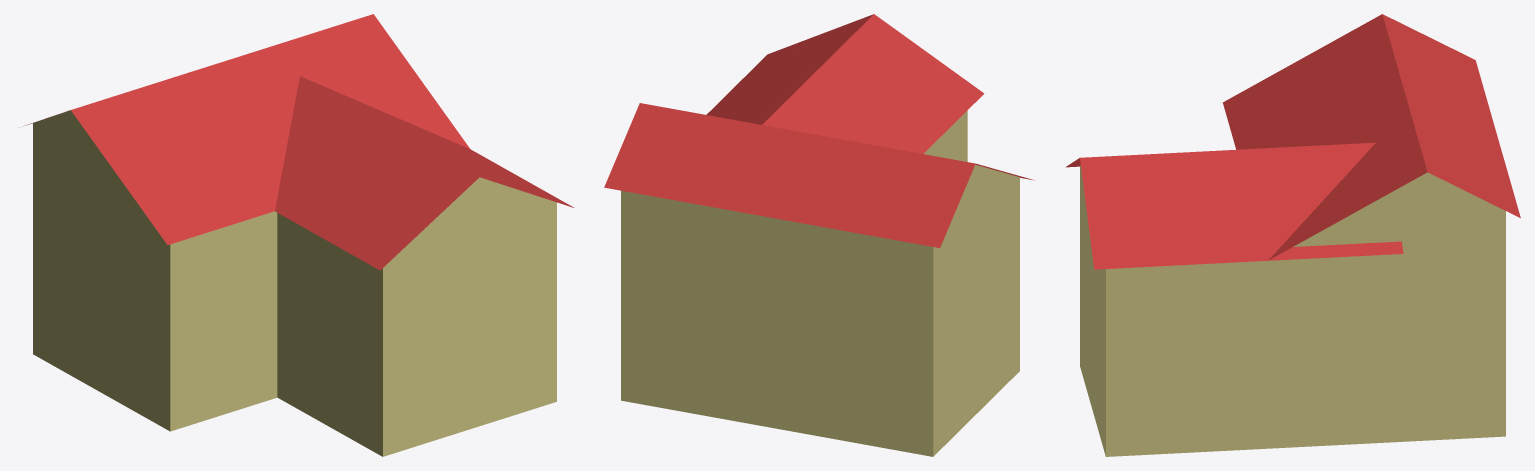
The picture shows the model from 3 angles, left to right: view 1: azimuth 30°, elevation 25°; view 2: azimuth 150°, elevation 25°; view 3: azimuth 270°, elevation 25°; orthographic projection. The views are drawn at different scales.
Size of the model in its own units: 15.95 by 17.06 by 11.31.
